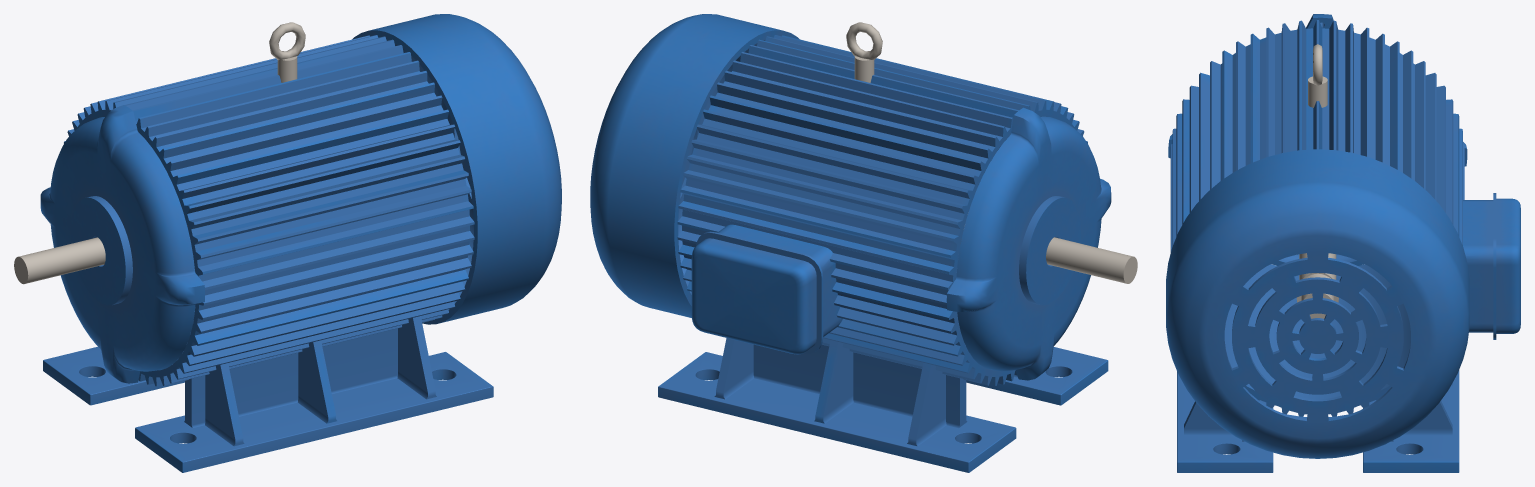
Rendered from ganyingdianji.fbx.
The picture shows the model from 3 angles, left to right: view 1: azimuth 30°, elevation 25°; view 2: azimuth 150°, elevation 25°; view 3: azimuth 270°, elevation 25°; orthographic projection.
Visible parts, largest first — view 1: jizuo, qianduangai, fengzhao, zhou, diaohuan; view 2: jizuo, qianduangai, fengzhao, chuxianhe, zhou, diaohuan; view 3: fengzhao, jizuo, chuxianhe, diaohuan, qianduangai, zhou.
Boxes of the visible parts, x1=… form: jizuo: x1=43, y1=35, x2=493, y2=472; qianduangai: x1=40, y1=105, x2=204, y2=383; fengzhao: x1=352, y1=14, x2=561, y2=324; zhou: x1=14, y1=237, x2=105, y2=284; diaohuan: x1=269, y1=22, x2=305, y2=82; jizuo: x1=658, y1=35, x2=1108, y2=472; qianduangai: x1=946, y1=107, x2=1111, y2=380; fengzhao: x1=590, y1=14, x2=799, y2=317; chuxianhe: x1=691, y1=224, x2=842, y2=354; zhou: x1=1046, y1=237, x2=1137, y2=283; diaohuan: x1=846, y1=22, x2=882, y2=82; fengzhao: x1=1166, y1=149, x2=1469, y2=458; jizuo: x1=1170, y1=20, x2=1464, y2=472; chuxianhe: x1=1463, y1=193, x2=1520, y2=339; diaohuan: x1=1308, y1=44, x2=1327, y2=107; qianduangai: x1=1168, y1=14, x2=1467, y2=265; zhou: x1=1296, y1=253, x2=1338, y2=318.
Size of the model in its own units: 42.65 by 30.01 by 26.88.
2 materials, 2 textured.
